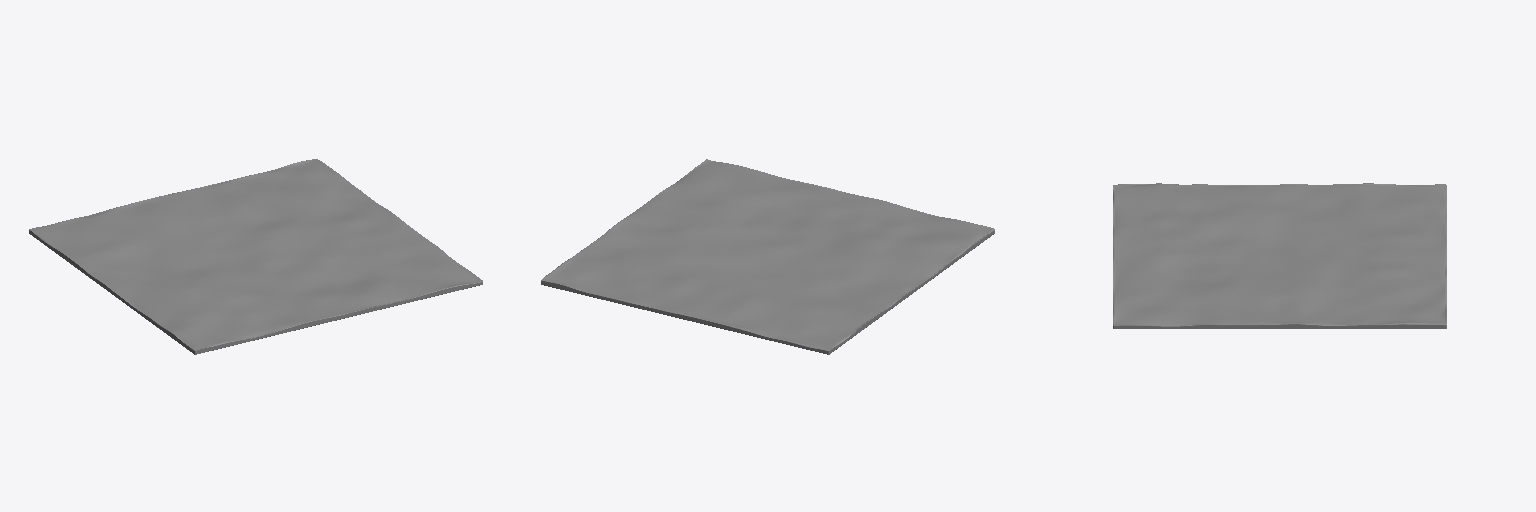
File: rectangularGrass.obj
The picture shows the model from 3 angles: view 1: azimuth 30°, elevation 25°; view 2: azimuth 150°, elevation 25°; view 3: azimuth 270°, elevation 25°; orthographic projection.
Parts seen in each view (by area): view 1: rectangularGrass; view 2: rectangularGrass; view 3: rectangularGrass.
Part boxes in pixels (bbox=[...]): rectangularGrass: bbox=[29, 159, 482, 354]; rectangularGrass: bbox=[541, 159, 994, 354]; rectangularGrass: bbox=[1113, 183, 1446, 328].
Bounding box in the file's own units: 300 × 5.89 × 300.